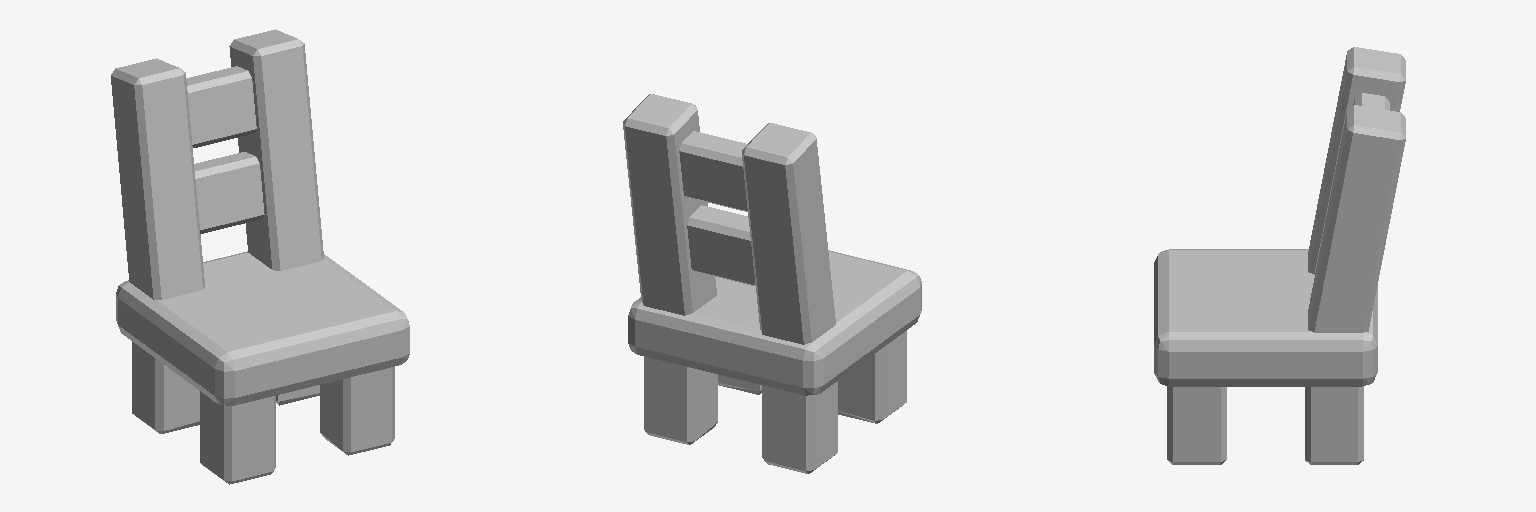
The model's file is Chair.obj.
3 views of the same model, side by side, from view 1: azimuth 30°, elevation 25°; view 2: azimuth 150°, elevation 25°; view 3: azimuth 270°, elevation 25° (orthographic).
Parts seen in each view (by area): view 1: 000_chair_A; view 2: 000_chair_A; view 3: 000_chair_A.
Part boxes in pixels (bbox=[...]): 000_chair_A: bbox=[111, 29, 409, 484]; 000_chair_A: bbox=[623, 94, 921, 473]; 000_chair_A: bbox=[1154, 47, 1405, 464].
Size of the model in its own units: 27.28 by 45.77 by 30.74.